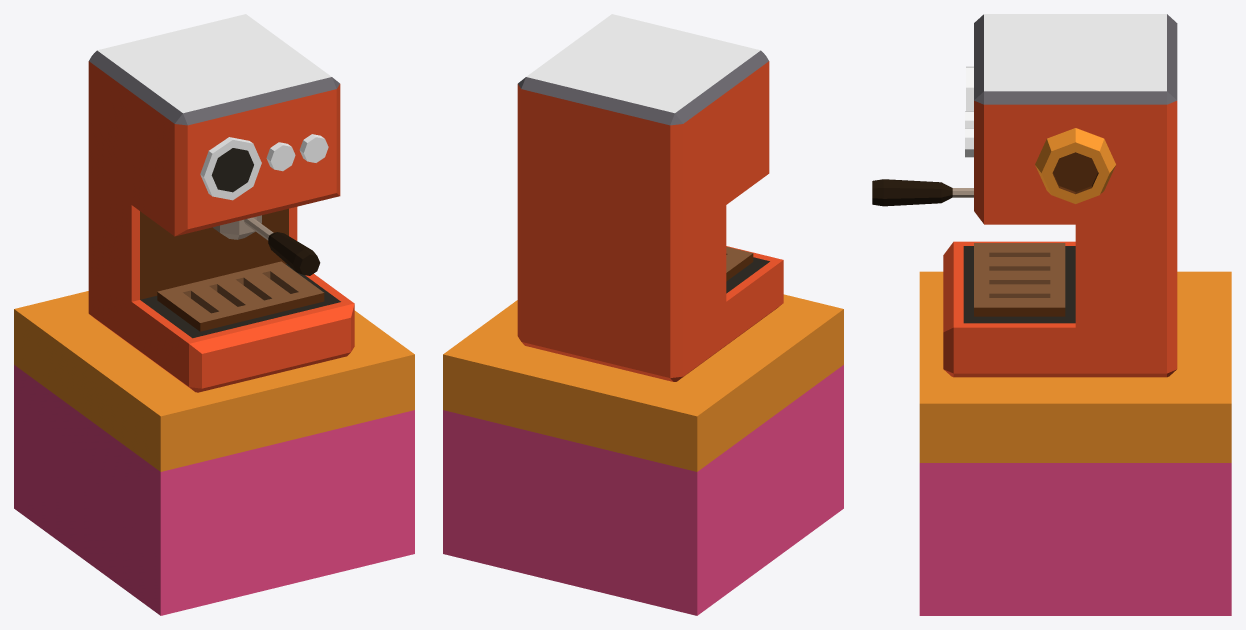
The model's file is CoffeeMachine.fbx.
3 renders of one model, left to right at view 1: azimuth 30°, elevation 25°; view 2: azimuth 150°, elevation 25°; view 3: azimuth 270°, elevation 25°, orthographic. The views are drawn at different scales.
Parts seen in each view (by area): view 1: CoffeeMachine; view 2: CoffeeMachine; view 3: CoffeeMachine.
Boxes of the visible parts, bbox=[...] form: CoffeeMachine: bbox=[14, 14, 414, 615]; CoffeeMachine: bbox=[443, 14, 843, 615]; CoffeeMachine: bbox=[872, 14, 1231, 615].
Size of the model in its own units: 60.45 by 106 by 69.6.
